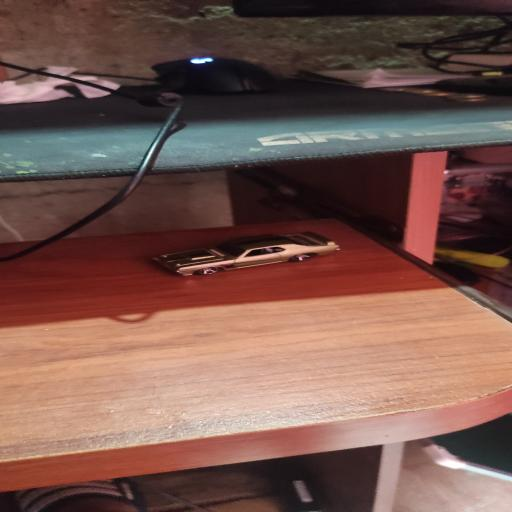Carrito: (154, 232, 339, 276)
